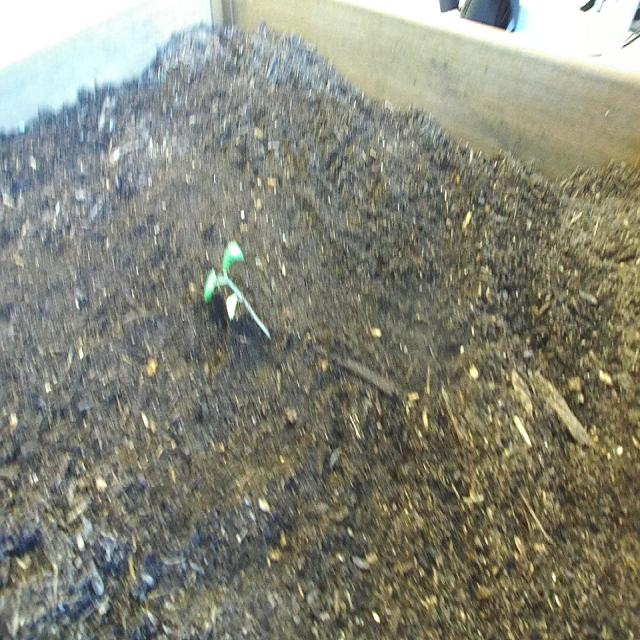Healthy: (197, 228, 285, 370)
